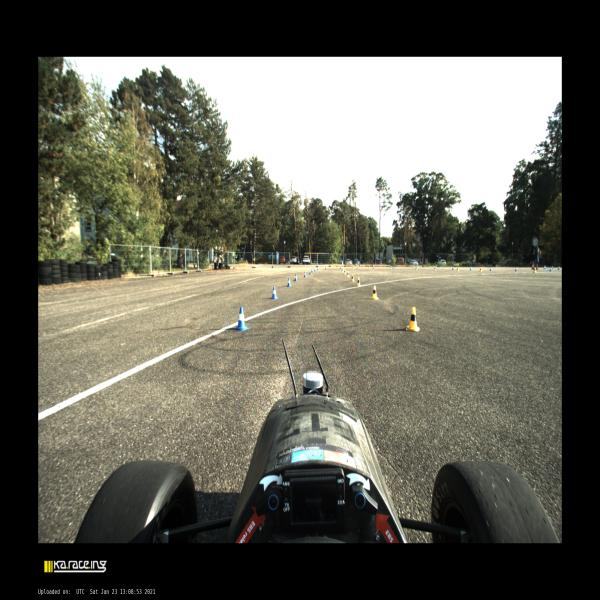blue_cone: (236, 306, 249, 331), (271, 286, 278, 299), (287, 278, 291, 286), (294, 274, 298, 281), (549, 266, 552, 272), (304, 272, 306, 278), (515, 266, 517, 272), (557, 266, 560, 270), (469, 266, 472, 270), (314, 267, 316, 272), (490, 266, 492, 271), (311, 268, 313, 272), (309, 270, 311, 274), (325, 266, 327, 270), (340, 265, 342, 269), (357, 265, 359, 269), (452, 266, 454, 270), (435, 266, 437, 269), (317, 267, 319, 270), (416, 266, 418, 269), (373, 265, 374, 269), (545, 265, 546, 269), (544, 266, 545, 269), (393, 266, 394, 268), (552, 266, 553, 268)
yellow_cone: (406, 306, 420, 332), (372, 286, 379, 300), (357, 277, 361, 287), (533, 267, 537, 273), (347, 272, 350, 278), (352, 274, 354, 282), (343, 269, 346, 274), (479, 268, 482, 272), (457, 266, 459, 272), (434, 266, 436, 270), (416, 266, 418, 270), (368, 265, 370, 269), (352, 266, 354, 270), (390, 266, 392, 269), (342, 268, 343, 272)
